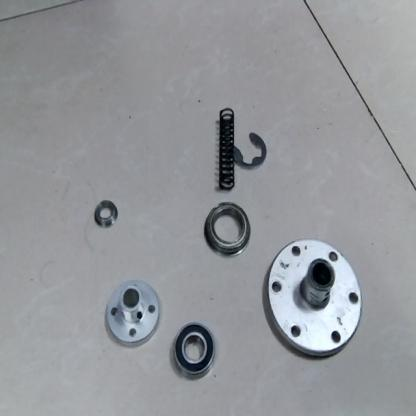FOD: (262, 231, 366, 364), (104, 281, 161, 350), (168, 320, 218, 379), (201, 202, 253, 258), (213, 103, 237, 194), (228, 129, 270, 171), (91, 198, 120, 230)
